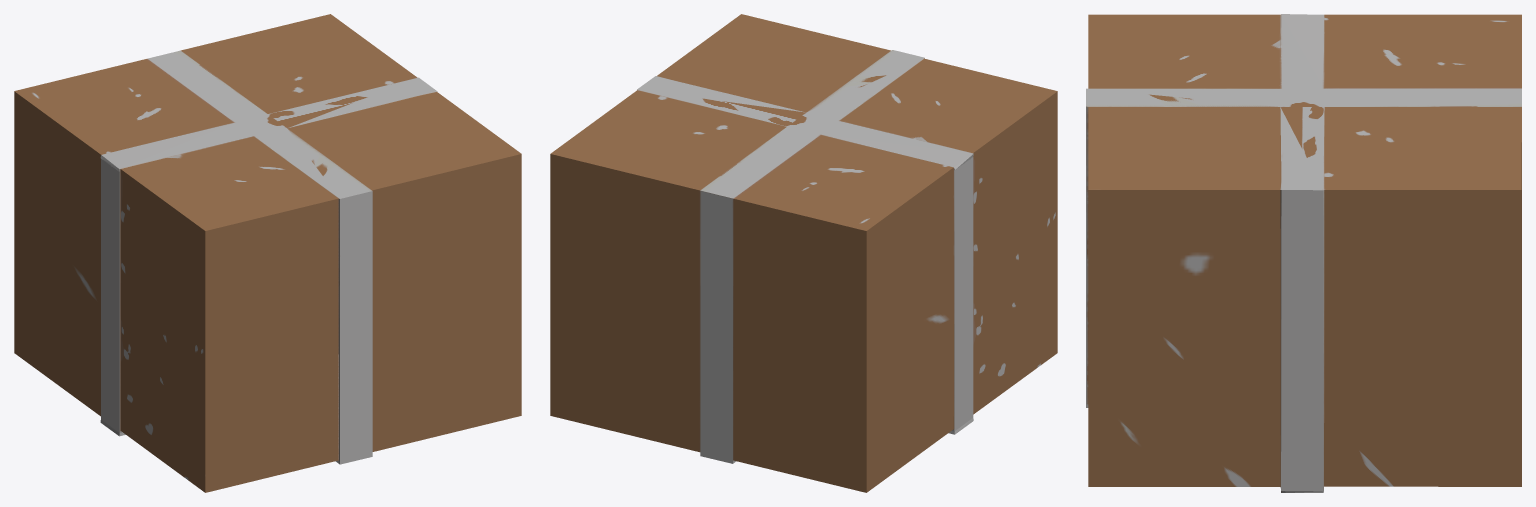
File: paket_2.glb
3 renders of one model, left to right at view 1: azimuth 30°, elevation 25°; view 2: azimuth 150°, elevation 25°; view 3: azimuth 270°, elevation 25°, orthographic. The views are drawn at different scales.
Parts seen in each view (by area): view 1: 272963_23_05_27_00_08_56_0; view 2: 272963_23_05_27_00_08_56_0; view 3: 272963_23_05_27_00_08_56_0.
Part boxes in pixels (left/top/right/bottom): 272963_23_05_27_00_08_56_0: left=14, top=14, right=521, bottom=492; 272963_23_05_27_00_08_56_0: left=550, top=14, right=1057, bottom=492; 272963_23_05_27_00_08_56_0: left=1086, top=14, right=1521, bottom=492.
Bounding box in the file's own units: 3.85 × 3.09 × 4.02.
Materials: 1 (1 with a texture image).
